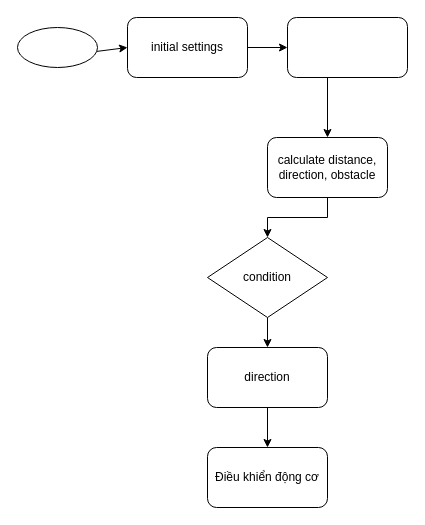
The diagram is 425 pixels wide and 525 high, and some of its shapes have lost their labels. Here are the shapes that lost their labels. From the top down, the centre of each, then its label:
(57,47): Start
(347,47): read data from sensor
